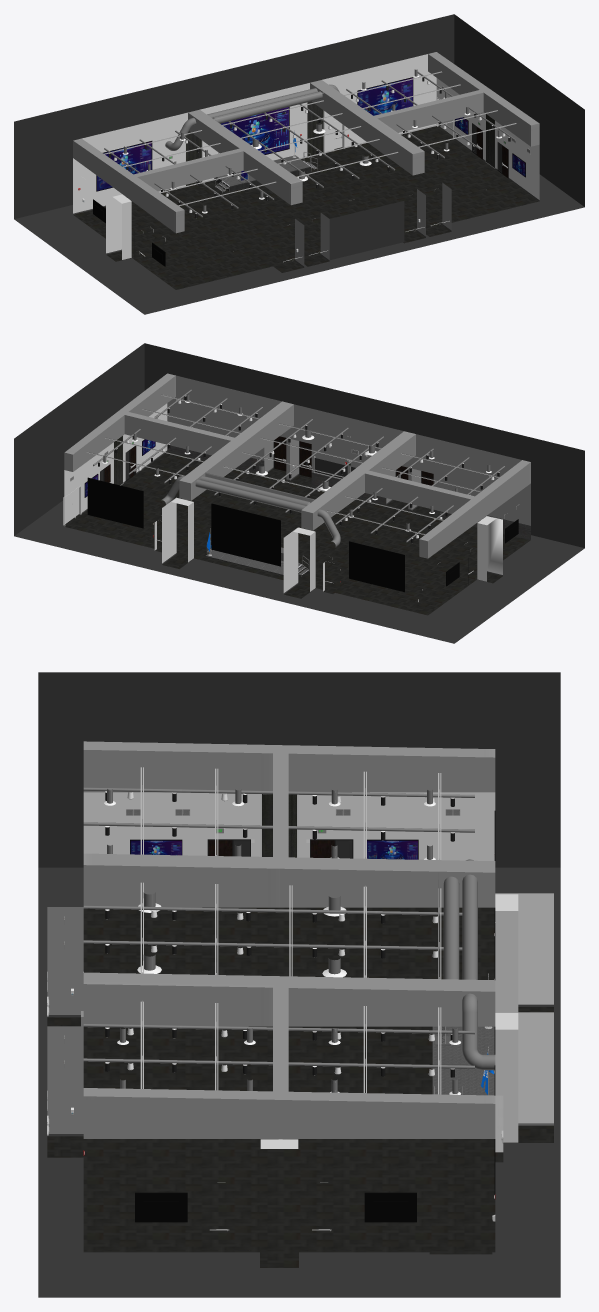
3 renders of one model, top to bottom at view 1: azimuth 30°, elevation 25°; view 2: azimuth 150°, elevation 25°; view 3: azimuth 270°, elevation 25°, orthographic. The views are drawn at different scales.
Visible parts, largest first — view 1: 3DGeom-7931_9, Floor_10, Roof_Support_41, WhiteWalls1_55, 3DGeom-229_8, Struts_Small_52, SoundProof_RoomDividers_50, Electrical_Pipes_25, Large_Screen_01_43, HVAC_Pipes_34, 3DGeom-222_4, Large_Screen_03_45 (+5 smaller); view 2: 3DGeom-7931_9, Floor_10, Roof_Support_41, 3DGeom-222_4, WhiteWalls1_55, Large_Screen_01_43, Struts_Small_52, Large_Screen_03_45, Large_Screen_02_44, SoundProof_RoomDividers_50, HVAC_Pipes_34, Electrical_Pipes_25 (+8 smaller); view 3: 3DGeom-7931_9, Floor_10, Roof_Support_41, WhiteWalls1_55, Electrical_Pipes_25, 3DGeom-222_4, SoundProof_RoomDividers_50, HVAC_Pipes_34, Struts_Small_52, OVH_AirVents_37, Stage_51, Medium_Screen_02_47 (+7 smaller).
Part boxes in pixels (left/top/right/bottom): 3DGeom-7931_9: left=14, top=14, right=584, bottom=314; Floor_10: left=73, top=126, right=538, bottom=289; Roof_Support_41: left=73, top=52, right=539, bottom=233; WhiteWalls1_55: left=73, top=54, right=539, bottom=253; 3DGeom-229_8: left=329, top=201, right=404, bottom=259; Struts_Small_52: left=104, top=71, right=516, bottom=205; SoundProof_RoomDividers_50: left=113, top=101, right=495, bottom=259; Electrical_Pipes_25: left=104, top=71, right=515, bottom=217; Large_Screen_01_43: left=220, top=107, right=289, bottom=154; HVAC_Pipes_34: left=165, top=84, right=339, bottom=150; 3DGeom-222_4: left=295, top=182, right=451, bottom=266; Large_Screen_03_45: left=357, top=77, right=413, bottom=115; 3DGeom-7931_9: left=14, top=343, right=584, bottom=643; Floor_10: left=63, top=451, right=530, bottom=615; Roof_Support_41: left=64, top=373, right=530, bottom=558; 3DGeom-222_4: left=167, top=375, right=530, bottom=525; WhiteWalls1_55: left=63, top=403, right=502, bottom=592; Large_Screen_01_43: left=211, top=503, right=280, bottom=566; Struts_Small_52: left=86, top=394, right=499, bottom=534; Large_Screen_03_45: left=87, top=477, right=143, bottom=528; Large_Screen_02_44: left=349, top=541, right=404, bottom=592; SoundProof_RoomDividers_50: left=113, top=435, right=496, bottom=591; HVAC_Pipes_34: left=161, top=476, right=340, bottom=547; Electrical_Pipes_25: left=93, top=389, right=504, bottom=542; 3DGeom-7931_9: left=38, top=672, right=560, bottom=1297; Floor_10: left=47, top=907, right=553, bottom=1267; Roof_Support_41: left=83, top=741, right=495, bottom=1139; WhiteWalls1_55: left=83, top=792, right=553, bottom=1152; Electrical_Pipes_25: left=83, top=785, right=474, bottom=1068; 3DGeom-222_4: left=47, top=907, right=83, bottom=1133; SoundProof_RoomDividers_50: left=260, top=794, right=518, bottom=1148; HVAC_Pipes_34: left=443, top=859, right=495, bottom=1070; Struts_Small_52: left=140, top=767, right=441, bottom=1094; OVH_AirVents_37: left=104, top=789, right=460, bottom=1094; Stage_51: left=432, top=1026, right=494, bottom=1095; Medium_Screen_02_47: left=135, top=1192, right=187, bottom=1222.
Bounding box in the file's own units: 39.62 × 8.39 × 20.34.
Materials: 16 (8 with a texture image).
